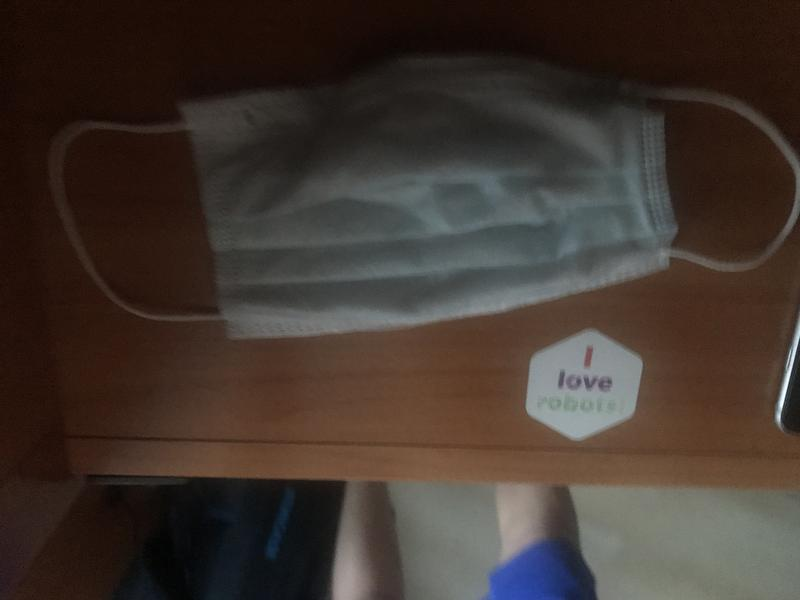medical_mask: (47, 58, 800, 338)
